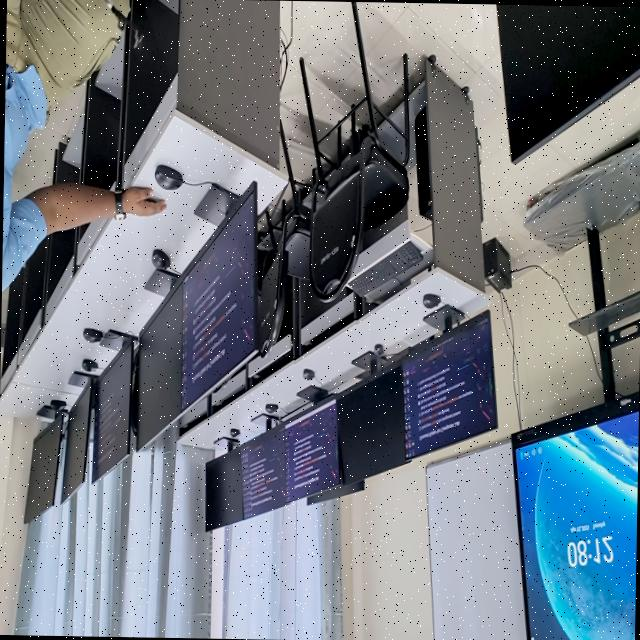Chair: (298, 0, 408, 301), (258, 121, 314, 356)
Cpu: (413, 105, 430, 218)
Digital board: (510, 138, 640, 640)
Keyboard: (347, 239, 422, 295)
Monitor: (495, 3, 640, 162), (180, 183, 255, 409), (400, 305, 496, 459), (334, 350, 408, 483), (135, 268, 188, 449), (90, 328, 136, 481), (283, 385, 337, 501), (23, 399, 66, 522), (239, 412, 286, 518), (59, 371, 95, 501), (204, 436, 242, 530), (305, 479, 363, 504)
Mouse: (153, 164, 182, 189), (150, 248, 169, 268), (82, 327, 102, 341), (422, 293, 439, 307), (80, 358, 97, 371), (48, 399, 65, 409), (372, 343, 382, 356), (264, 403, 277, 413), (302, 368, 313, 379), (228, 428, 238, 437)
